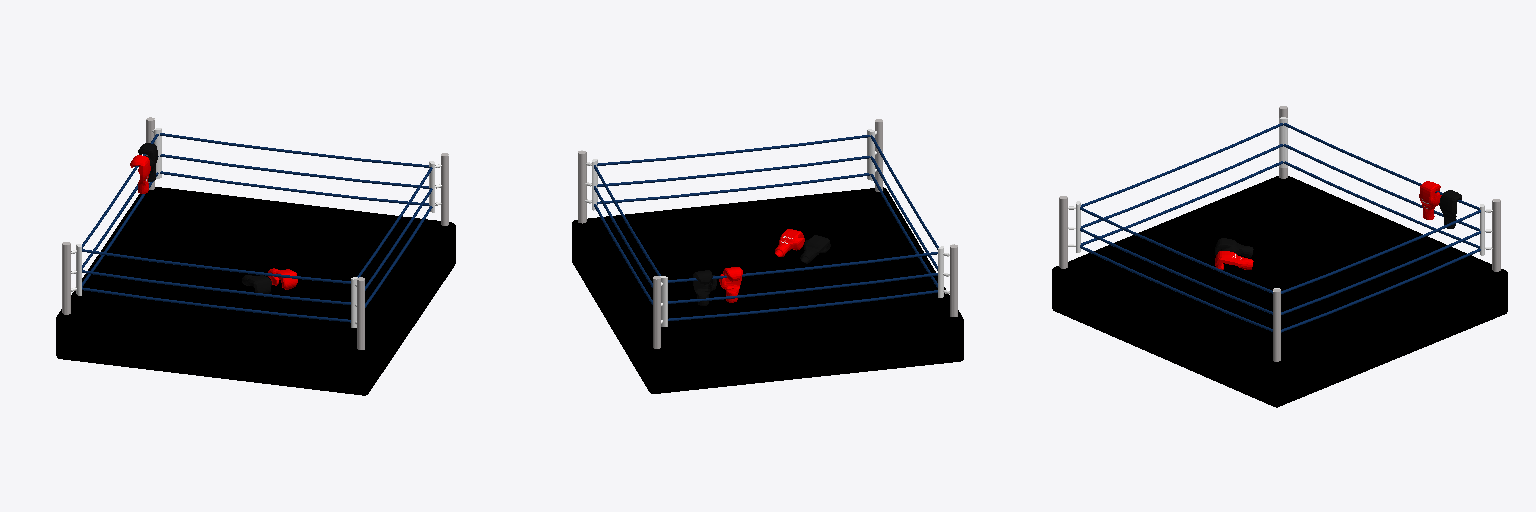
3 views of the same model, side by side, from view 1: azimuth 30°, elevation 25°; view 2: azimuth 150°, elevation 25°; view 3: azimuth 270°, elevation 25° (orthographic).
Parts seen in each view (by area): view 1: ring2 ring1:pCube1group8Ring, ring1:Guantes2Ring ring2, ring2 ring1:RingGuantes1, ring2 ring1:group8pCylinder24, ring2 ring1:group8pCylinder30, ring2 ring1:group8pCylinder31, ring2 ring1:group8pCylinder25, ring2 ring1:group8pCylinder32, ring2 ring1:group8pCylinder26, ring2 ring1:group8pCylinder4, ring2 ring1:group8pCylinder1, ring2 ring1:group8pCylinder2; view 2: ring2 ring1:pCube1group8Ring, ring1:Guantes2Ring ring2, ring2 ring1:RingGuantes1, ring2 ring1:group8pCylinder21, ring2 ring1:group8pCylinder20, ring2 ring1:group8pCylinder22, ring2 ring1:group8pCylinder23, ring2 ring1:group8pCylinder19, ring2 ring1:group8pCylinder18, ring2 ring1:group8pCylinder2, ring2 ring1:group8pCylinder3, ring2 ring1:group8pCylinder4; view 3: ring2 ring1:pCube1group8Ring, ring1:Guantes2Ring ring2, ring2 ring1:RingGuantes1, ring2 ring1:group8pCylinder1, ring2 ring1:group8pCylinder3, ring2 ring1:group8pCylinder30, ring2 ring1:group8pCylinder24, ring2 ring1:group8pCylinder25, ring2 ring1:group8pCylinder26, ring2 ring1:group8pCylinder31, ring2 ring1:group8pCylinder21, ring2 ring1:group8pCylinder32 (+5 smaller).
Boxes of the visible parts, <box> form: ring2 ring1:pCube1group8Ring: <box>56,187,455,395</box>; ring1:Guantes2Ring ring2: <box>130,143,157,193</box>; ring2 ring1:RingGuantes1: <box>242,268,297,293</box>; ring2 ring1:group8pCylinder24: <box>160,133,429,167</box>; ring2 ring1:group8pCylinder30: <box>82,249,350,283</box>; ring2 ring1:group8pCylinder31: <box>82,270,350,304</box>; ring2 ring1:group8pCylinder25: <box>160,154,429,188</box>; ring2 ring1:group8pCylinder32: <box>82,287,350,322</box>; ring2 ring1:group8pCylinder26: <box>160,171,429,205</box>; ring2 ring1:group8pCylinder4: <box>62,242,70,314</box>; ring2 ring1:group8pCylinder1: <box>357,277,364,349</box>; ring2 ring1:group8pCylinder2: <box>441,153,448,225</box>; ring2 ring1:pCube1group8Ring: <box>572,187,963,393</box>; ring1:Guantes2Ring ring2: <box>693,267,742,305</box>; ring2 ring1:RingGuantes1: <box>775,229,830,263</box>; ring2 ring1:group8pCylinder21: <box>597,135,869,165</box>; ring2 ring1:group8pCylinder20: <box>668,290,937,320</box>; ring2 ring1:group8pCylinder22: <box>597,156,869,186</box>; ring2 ring1:group8pCylinder23: <box>597,173,869,204</box>; ring2 ring1:group8pCylinder19: <box>668,273,937,303</box>; ring2 ring1:group8pCylinder18: <box>668,252,937,282</box>; ring2 ring1:group8pCylinder2: <box>578,150,586,223</box>; ring2 ring1:group8pCylinder3: <box>653,276,660,348</box>; ring2 ring1:group8pCylinder4: <box>950,244,957,316</box>; ring2 ring1:pCube1group8Ring: <box>1052,176,1507,407</box>; ring1:Guantes2Ring ring2: <box>1419,181,1461,228</box>; ring2 ring1:RingGuantes1: <box>1215,238,1253,269</box>; ring2 ring1:group8pCylinder1: <box>1059,196,1067,268</box>; ring2 ring1:group8pCylinder3: <box>1492,199,1500,271</box>; ring2 ring1:group8pCylinder30: <box>1081,123,1282,207</box>; ring2 ring1:group8pCylinder24: <box>1281,210,1480,293</box>; ring2 ring1:group8pCylinder25: <box>1281,231,1480,314</box>; ring2 ring1:group8pCylinder26: <box>1281,248,1480,332</box>; ring2 ring1:group8pCylinder31: <box>1081,144,1282,228</box>; ring2 ring1:group8pCylinder21: <box>1080,207,1272,293</box>; ring2 ring1:group8pCylinder32: <box>1081,161,1282,245</box>.
Size of the model in its own units: 33.52 by 9.22 by 33.52.
Materials: 3 (2 with a texture image).